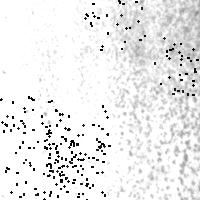pitted_surface: (103, 1, 199, 194), (27, 1, 101, 115), (49, 105, 108, 165), (48, 140, 104, 200), (44, 125, 99, 185), (0, 96, 56, 153), (5, 147, 62, 200), (84, 0, 144, 49), (154, 36, 200, 94)
